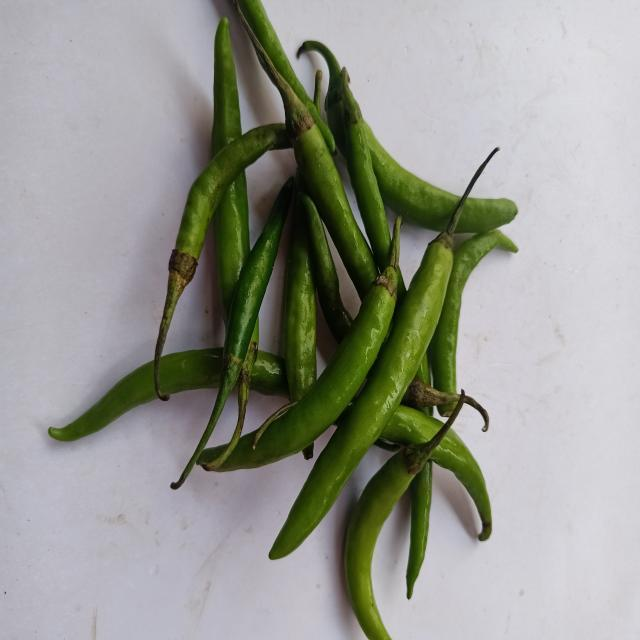Chayote: (337, 222, 338, 224)
Green Chilly: (270, 233, 453, 559), (218, 220, 400, 472), (237, 4, 378, 300), (171, 177, 294, 489), (154, 122, 291, 400), (345, 451, 415, 640), (341, 66, 391, 271)
